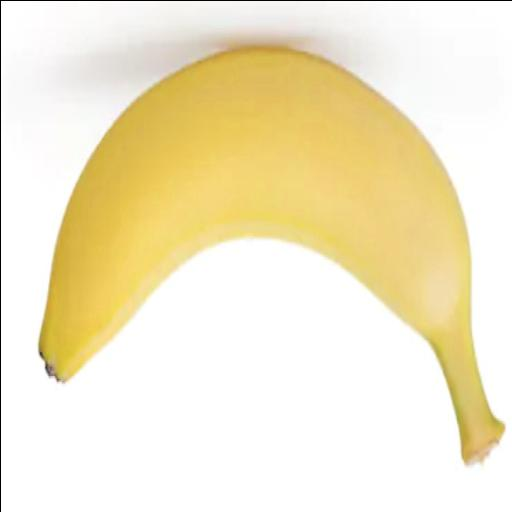banana: (39, 47, 502, 462)
